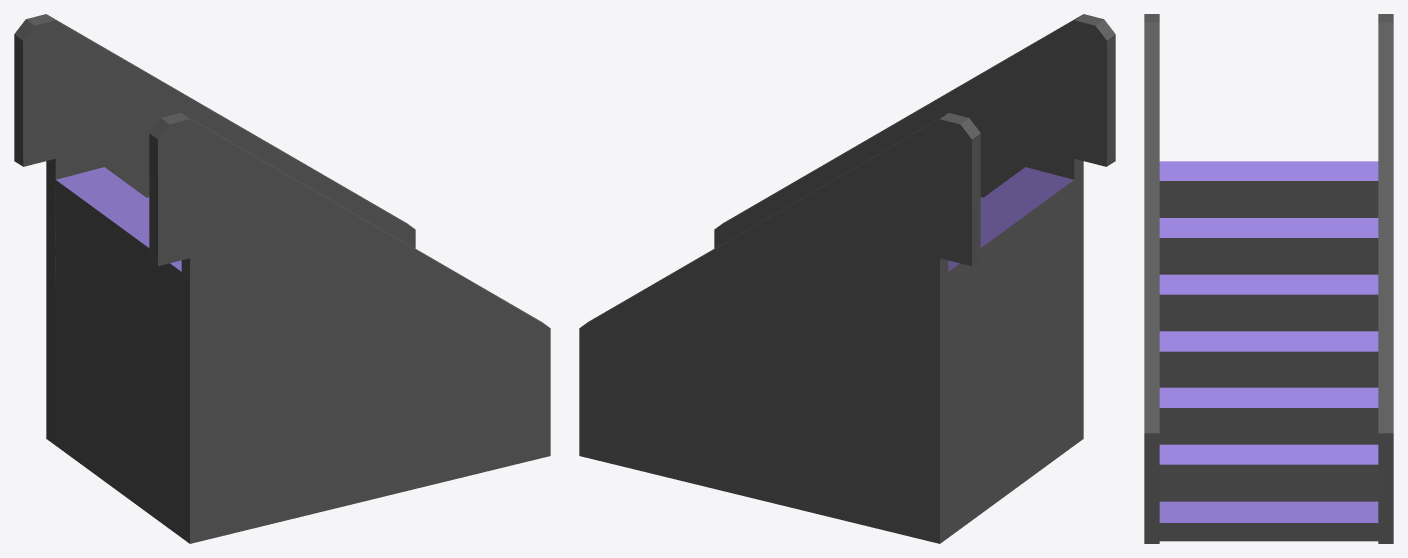
Rendered from stairs.fbx.
The picture shows the model from 3 angles, left to right: view 1: azimuth 30°, elevation 25°; view 2: azimuth 150°, elevation 25°; view 3: azimuth 270°, elevation 25°; orthographic projection. The views are drawn at different scales.
Parts seen in each view (by area): view 1: Ramp; view 2: Ramp; view 3: Ramp.
Part boxes in pixels (x1=…): Ramp: x1=14, y1=14, x2=550, y2=543; Ramp: x1=579, y1=14, x2=1115, y2=543; Ramp: x1=1144, y1=14, x2=1393, y2=543.
Size of the model in its own units: 360 by 372 by 228.
